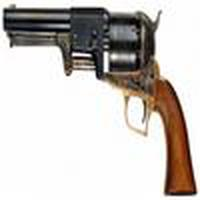gun: (2, 4, 200, 198)
